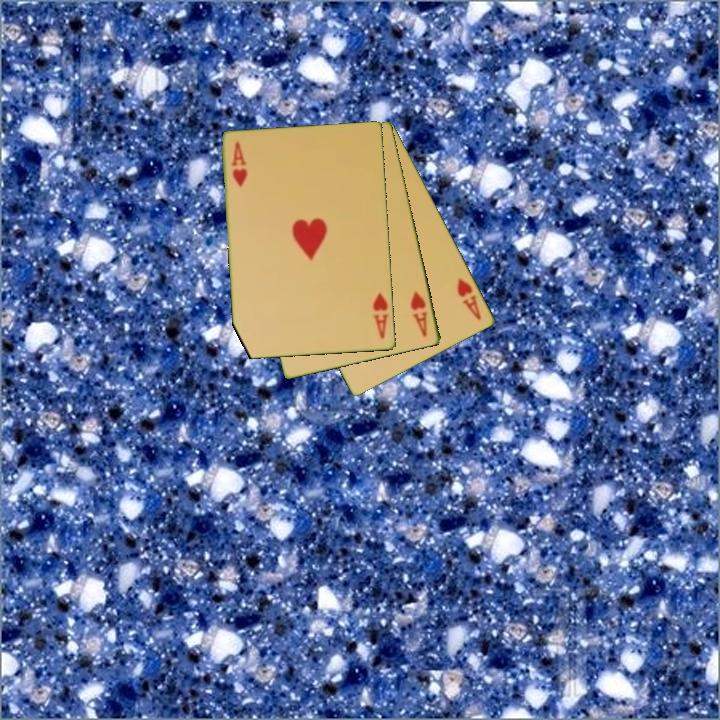Ah: (454, 275, 485, 323), (407, 288, 431, 340), (370, 290, 392, 342), (228, 138, 249, 190)
